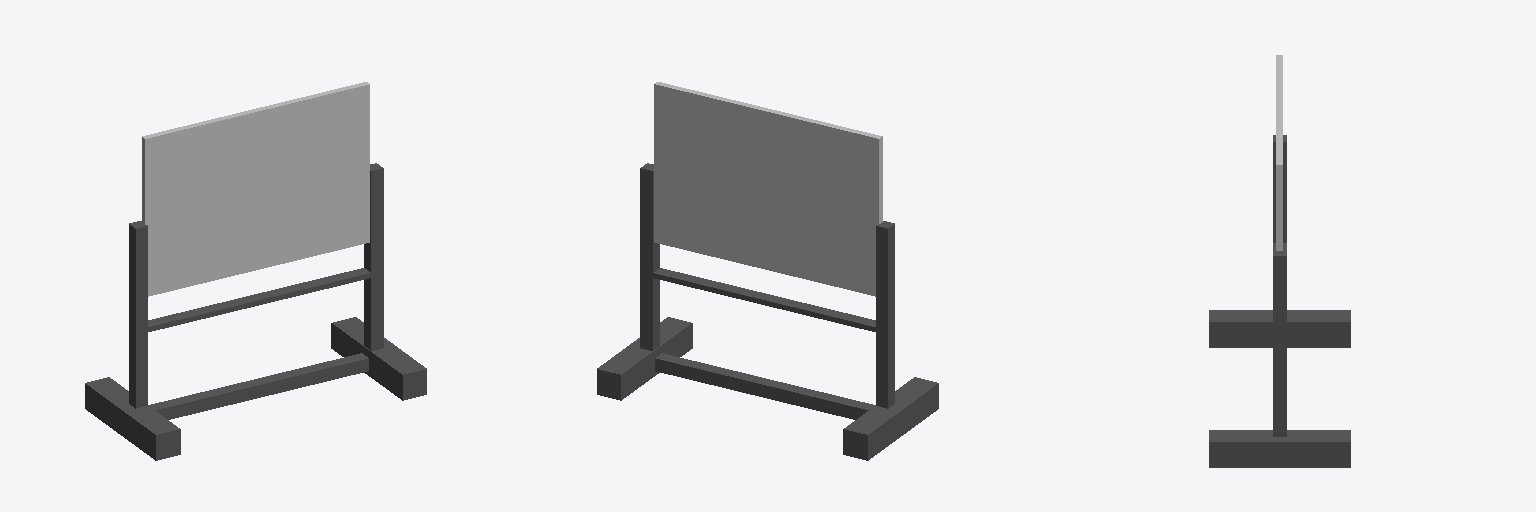
Rendered from whiteboard.obj.
3 views of the same model, side by side, from view 1: azimuth 30°, elevation 25°; view 2: azimuth 150°, elevation 25°; view 3: azimuth 270°, elevation 25° (orthographic).
Parts seen in each view (by area): view 1: Cube.005, Cube.004; view 2: Cube.005, Cube.004; view 3: Cube.004, Cube.005.
Boxes of the visible parts, x1,y1,x2,y2 form: Cube.005: [142, 82, 369, 296]; Cube.004: [85, 163, 426, 460]; Cube.005: [654, 82, 882, 296]; Cube.004: [597, 163, 938, 460]; Cube.004: [1209, 135, 1350, 467]; Cube.005: [1276, 55, 1282, 250].
Bounding box in the file's own units: 2.92 × 3 × 1.33.